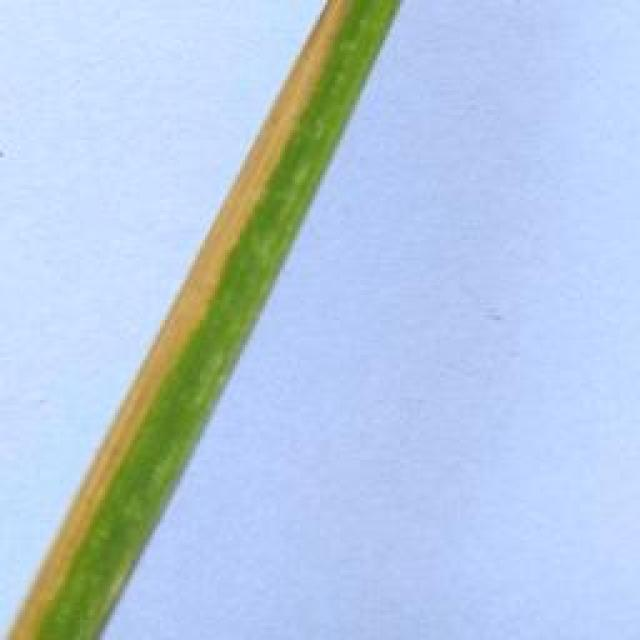Bacterial_Blight: (0, 0, 369, 640)
